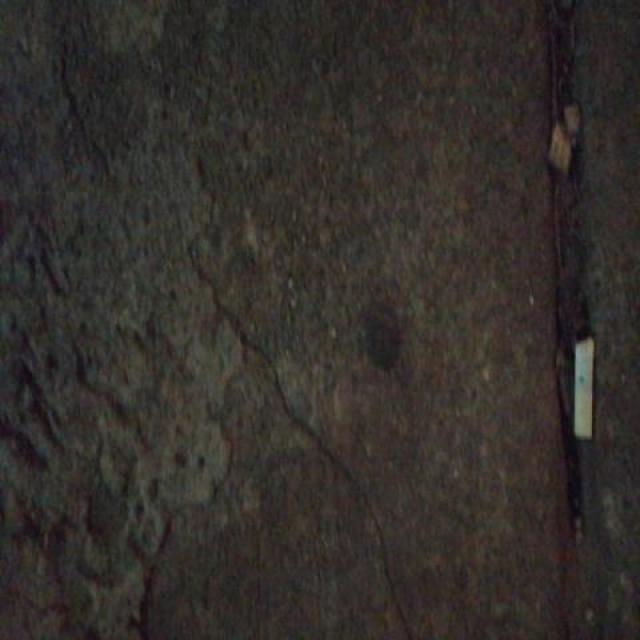non-organic waste: (571, 332, 597, 444)
